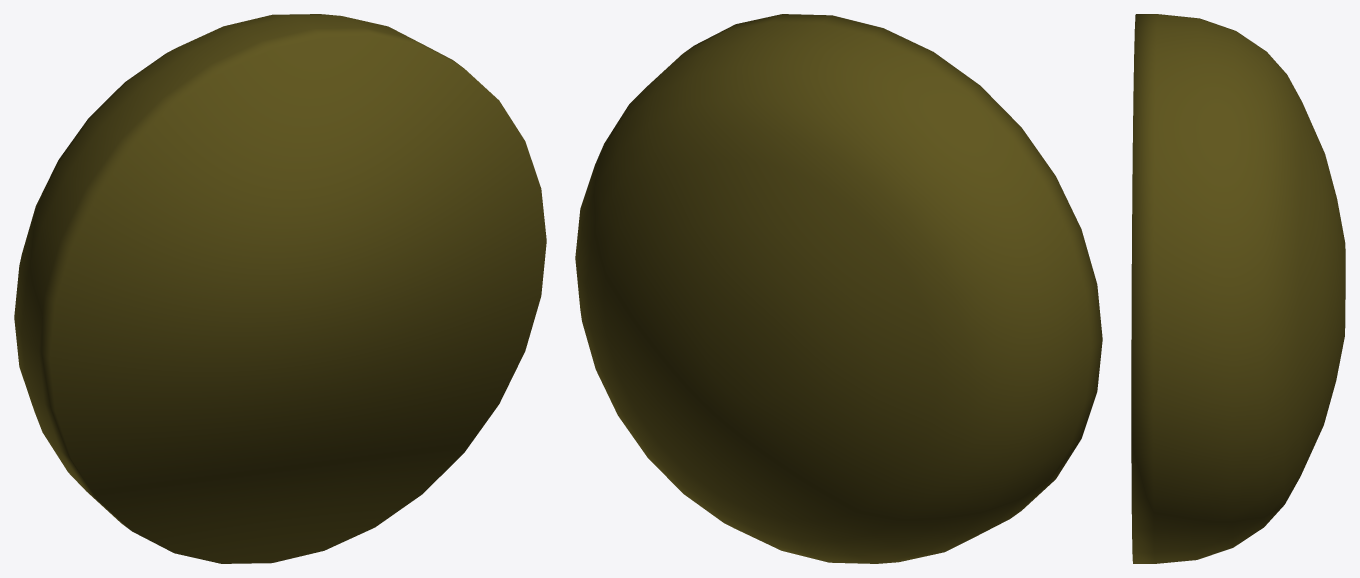
Rendered from yellowled.glb.
3 renders of one model, left to right at view 1: azimuth 30°, elevation 25°; view 2: azimuth 150°, elevation 25°; view 3: azimuth 270°, elevation 25°, orthographic. The views are drawn at different scales.
Visible parts, largest first — view 1: green; view 2: green; view 3: green.
Boxes of the visible parts, x1,y1,x2,y2 form: green: (14, 14, 546, 563); green: (575, 14, 1102, 563); green: (1131, 14, 1345, 563).
Bounding box in the file's own units: 0.8716 × 0.8665 × 0.3381.
